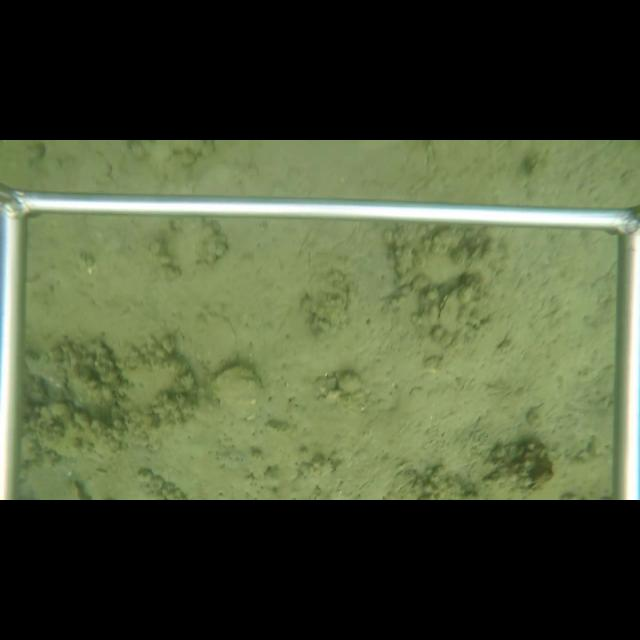Oyster-Closed: (207, 362, 266, 423), (437, 286, 470, 336)
